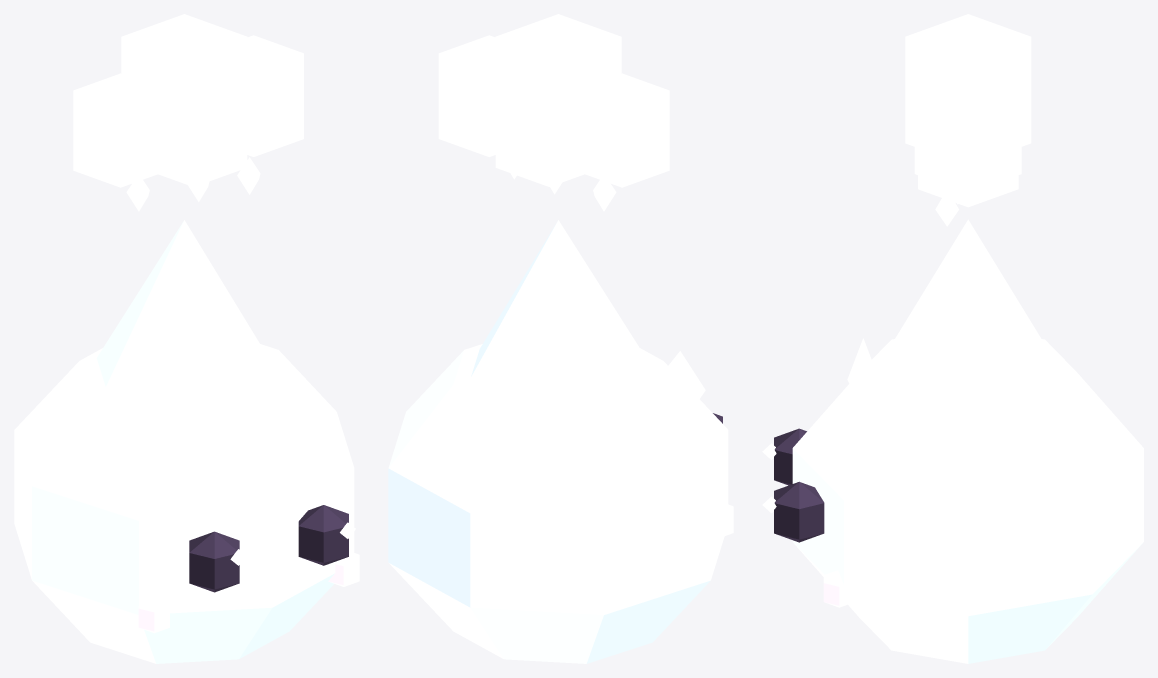
Rendered from spirit_mizzle.glb.
3 views of the same model, side by side, from view 1: azimuth 30°, elevation 25°; view 2: azimuth 150°, elevation 25°; view 3: azimuth 270°, elevation 25° (orthographic).
Visible parts, largest first — view 1: body, bob, sway, eyes; view 2: body, bob, sway; view 3: body, bob, sway, eyes.
Part boxes in pixels (x1,y1,x2,y2): body: [14, 344, 359, 663]; bob: [73, 14, 303, 187]; sway: [96, 220, 271, 404]; eyes: [189, 505, 355, 592]; body: [388, 344, 733, 663]; bob: [438, 14, 669, 187]; sway: [471, 220, 645, 404]; body: [792, 338, 1143, 663]; bob: [905, 14, 1031, 207]; sway: [878, 219, 1058, 405]; eyes: [762, 428, 824, 542].
Size of the model in its own units: 1.67 by 3.33 by 1.82.
